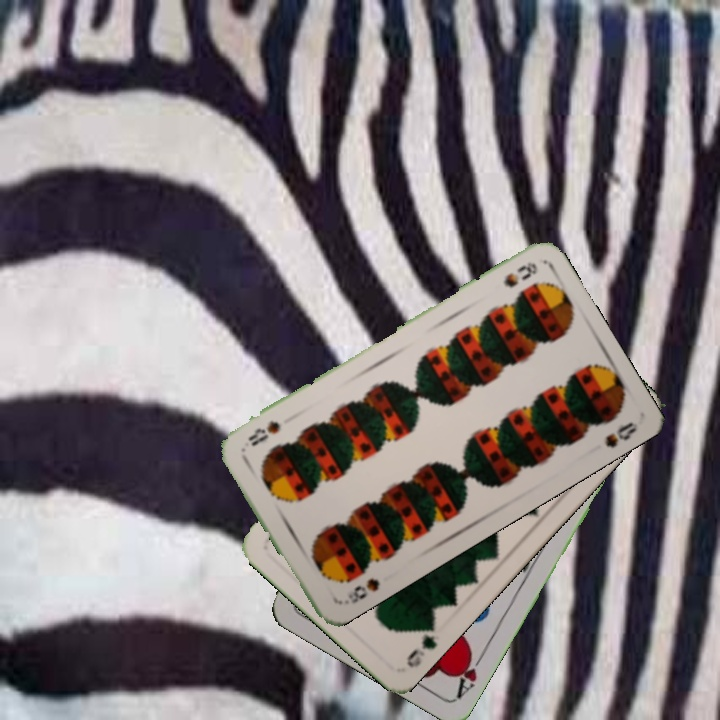G9: (402, 617, 440, 671)
HA: (451, 644, 489, 701)
S8: (336, 574, 383, 608), (498, 257, 541, 290)
